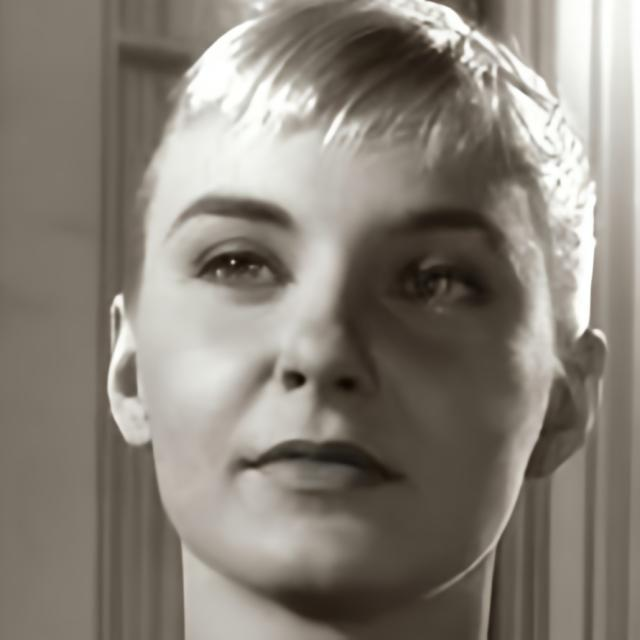neutral: (139, 83, 555, 602)
